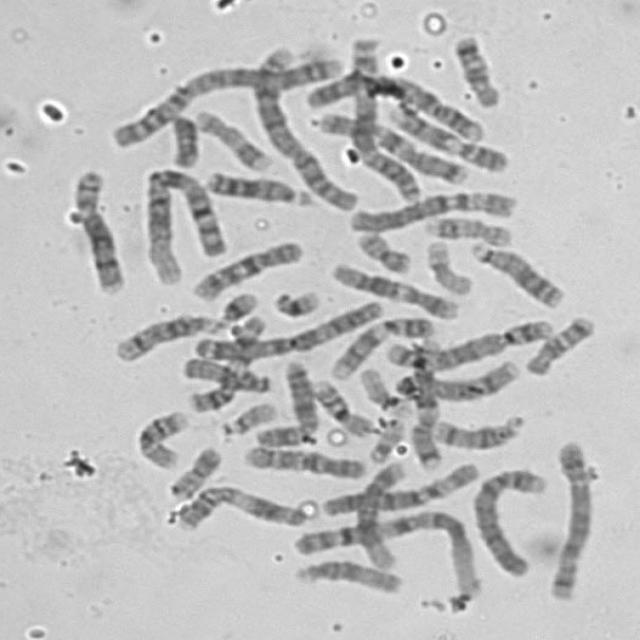A1: (286, 501, 486, 602), (135, 160, 229, 286)
A2: (102, 49, 350, 152), (243, 37, 362, 211)
A3: (339, 31, 425, 205), (187, 292, 387, 362)
B4: (299, 65, 488, 142), (466, 458, 552, 579)
B5: (378, 312, 558, 371), (540, 434, 596, 603)
C10: (186, 232, 306, 302), (236, 438, 369, 481)
C11: (181, 309, 270, 415), (168, 478, 312, 534)
C12: (323, 255, 462, 320), (351, 453, 413, 570)
C6: (314, 454, 483, 518), (343, 183, 522, 234)
C7: (312, 104, 475, 187), (402, 330, 447, 472)
C8: (63, 162, 129, 296), (388, 352, 524, 402)
C9: (380, 94, 514, 174), (324, 308, 440, 382)
D13: (463, 233, 568, 310), (198, 164, 316, 208)
D14: (106, 306, 227, 364), (425, 407, 527, 451)
D15: (286, 551, 406, 597), (175, 350, 276, 395)
E16: (304, 372, 378, 438), (129, 402, 192, 471)
E17: (187, 102, 276, 174), (418, 207, 515, 248)
E18: (517, 307, 599, 377), (446, 26, 505, 109)
F19: (352, 360, 417, 419), (418, 231, 477, 296)
F20: (162, 438, 224, 502), (348, 223, 416, 274)
G21: (209, 283, 262, 327), (265, 281, 324, 319)
G22: (214, 394, 279, 437), (362, 410, 408, 464)
X: (249, 352, 321, 448)
Y: (162, 106, 202, 168)
